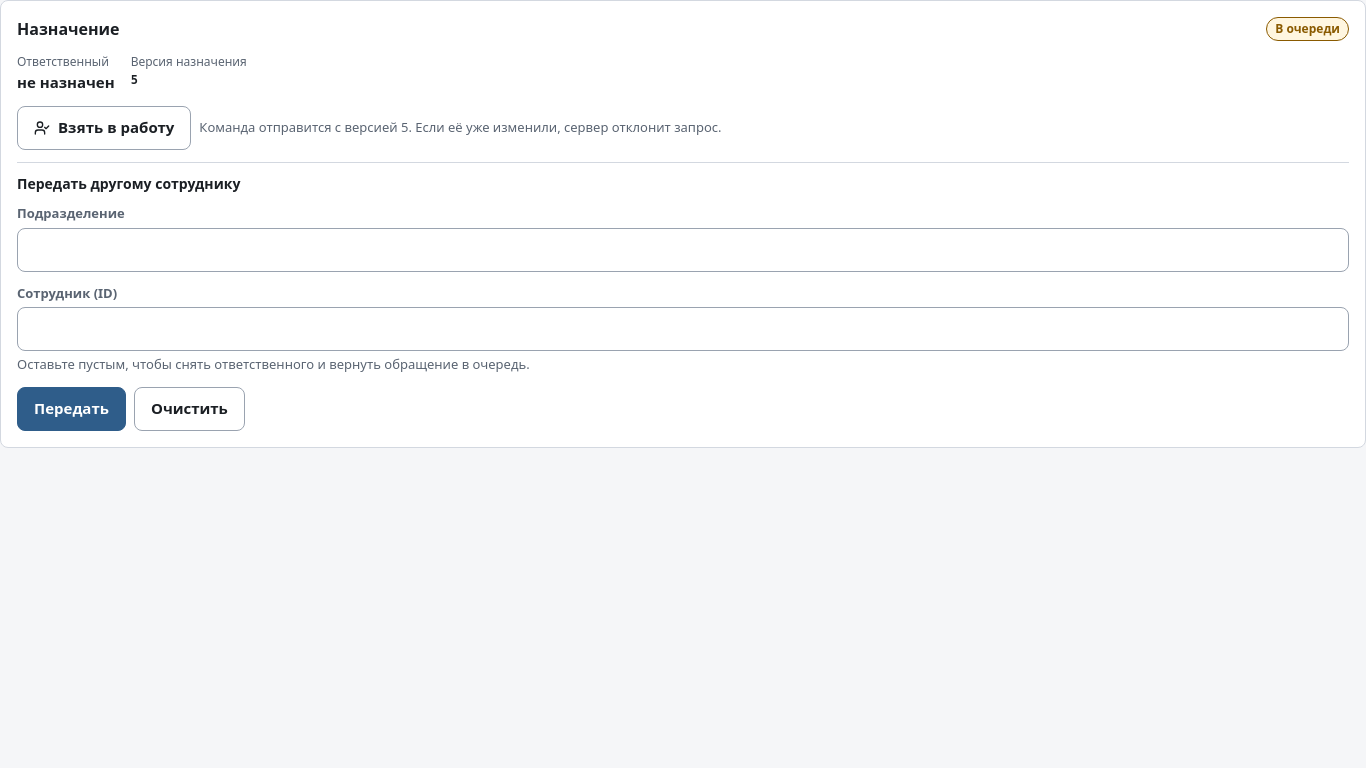
назначение и передача ответственного › отправляет claim с ожидаемой версией назначения
What coordinates should you click on to do the following:
click the button "Взять в работу"
I would click on:
 (104, 128)
Its box is [17,106,191,150].
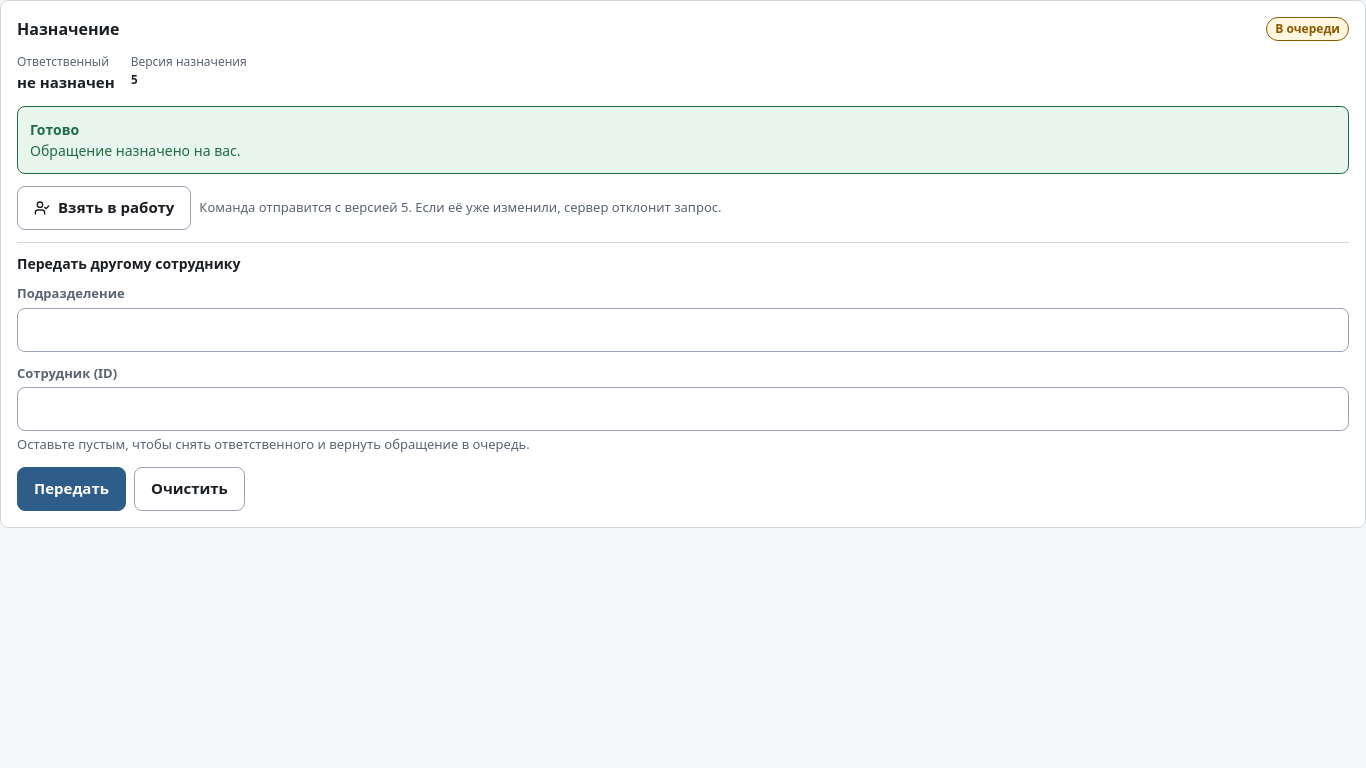
Check: the text "Обращение назначено на вас." is shown, box [30,140,240,160]
